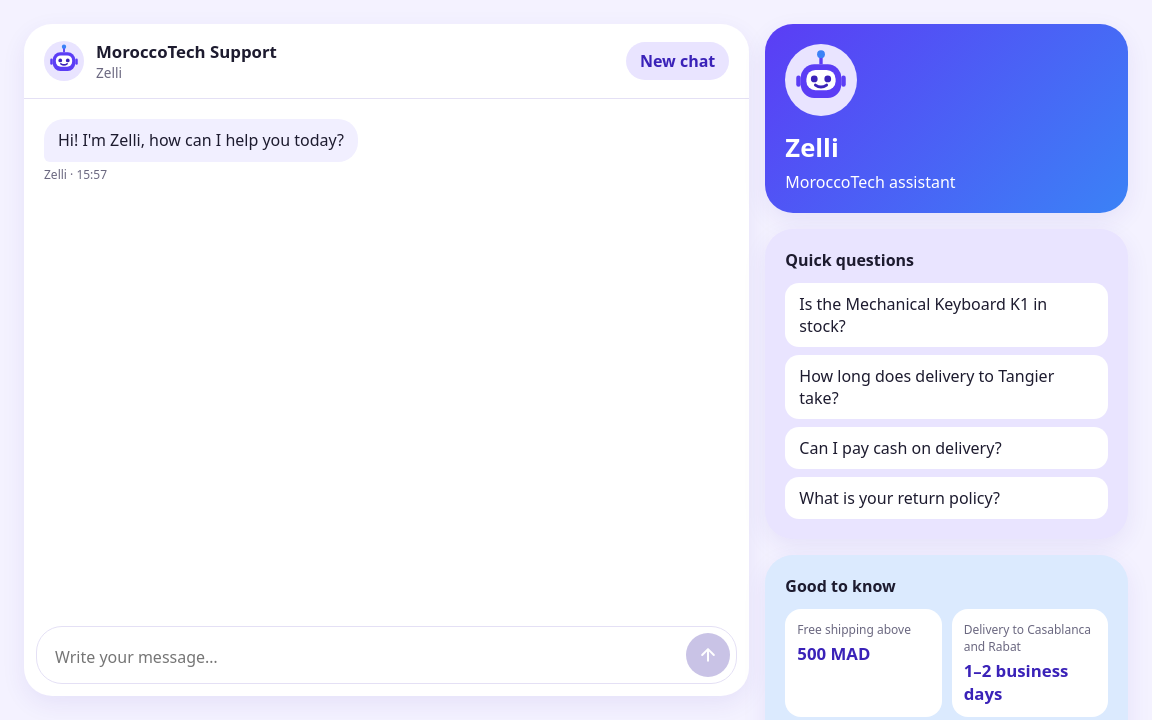
Test: App › a quick question is sent when clicked, and the buttons are off while waiting
Click the button "Is the Mechanical Keyboard K1 in stock?": (947, 315) top-left (785, 283), bottom-right (1108, 347)
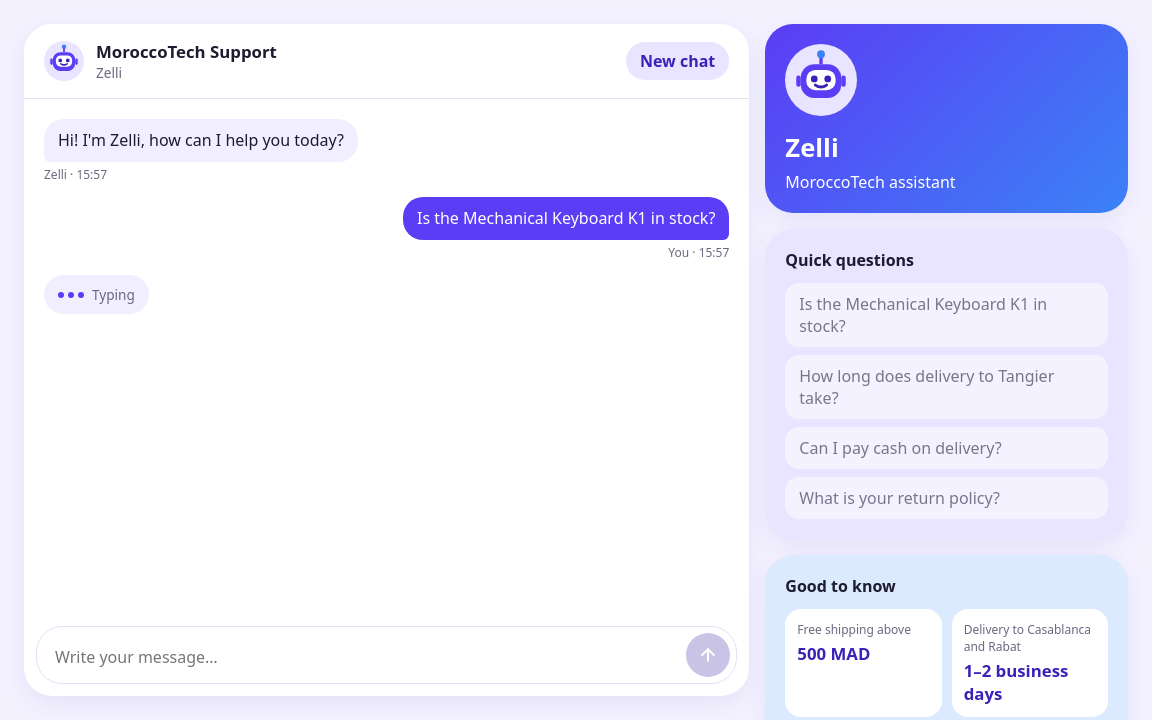
Expected: the button "Is the Mechanical Keyboard K1 in stock?" is disabled, top-left (785, 283), bottom-right (1108, 347)
